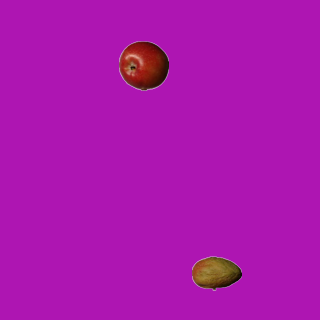Apple Braeburn: (118, 40, 168, 90)
Papaya: (191, 248, 241, 298)
